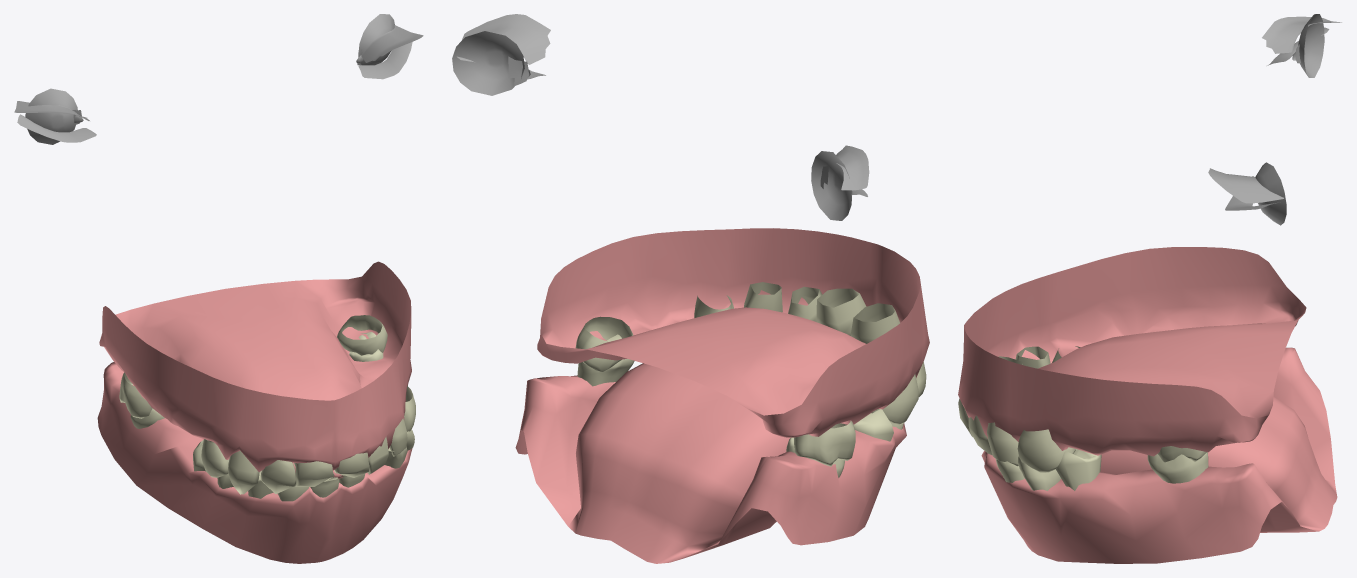
File: TM Teeth 02.fbx
3 views of the same model, side by side, from view 1: azimuth 30°, elevation 25°; view 2: azimuth 150°, elevation 25°; view 3: azimuth 270°, elevation 25° (orthographic). The views are drawn at different scales.
Parts seen in each view (by area): view 1: upper_teeth, lower_teeth, L_eye, R_Eye; view 2: upper_teeth, lower_teeth, R_Eye, L_eye; view 3: upper_teeth, lower_teeth, L_eye, R_Eye.
Boxes of the visible parts, <box> form: upper_teeth: <box>99,261,415,494</box>; lower_teeth: <box>97,332,414,563</box>; L_eye: <box>14,88,96,144</box>; R_Eye: <box>356,14,423,79</box>; upper_teeth: <box>537,228,929,466</box>; lower_teeth: <box>515,334,906,563</box>; R_Eye: <box>452,14,550,95</box>; L_eye: <box>811,145,869,220</box>; upper_teeth: <box>958,247,1306,472</box>; lower_teeth: <box>981,347,1337,563</box>; L_eye: <box>1262,14,1341,77</box>; R_Eye: <box>1208,162,1286,225</box>.
Size of the model in its own units: 12.34 by 13.4 by 10.1.
